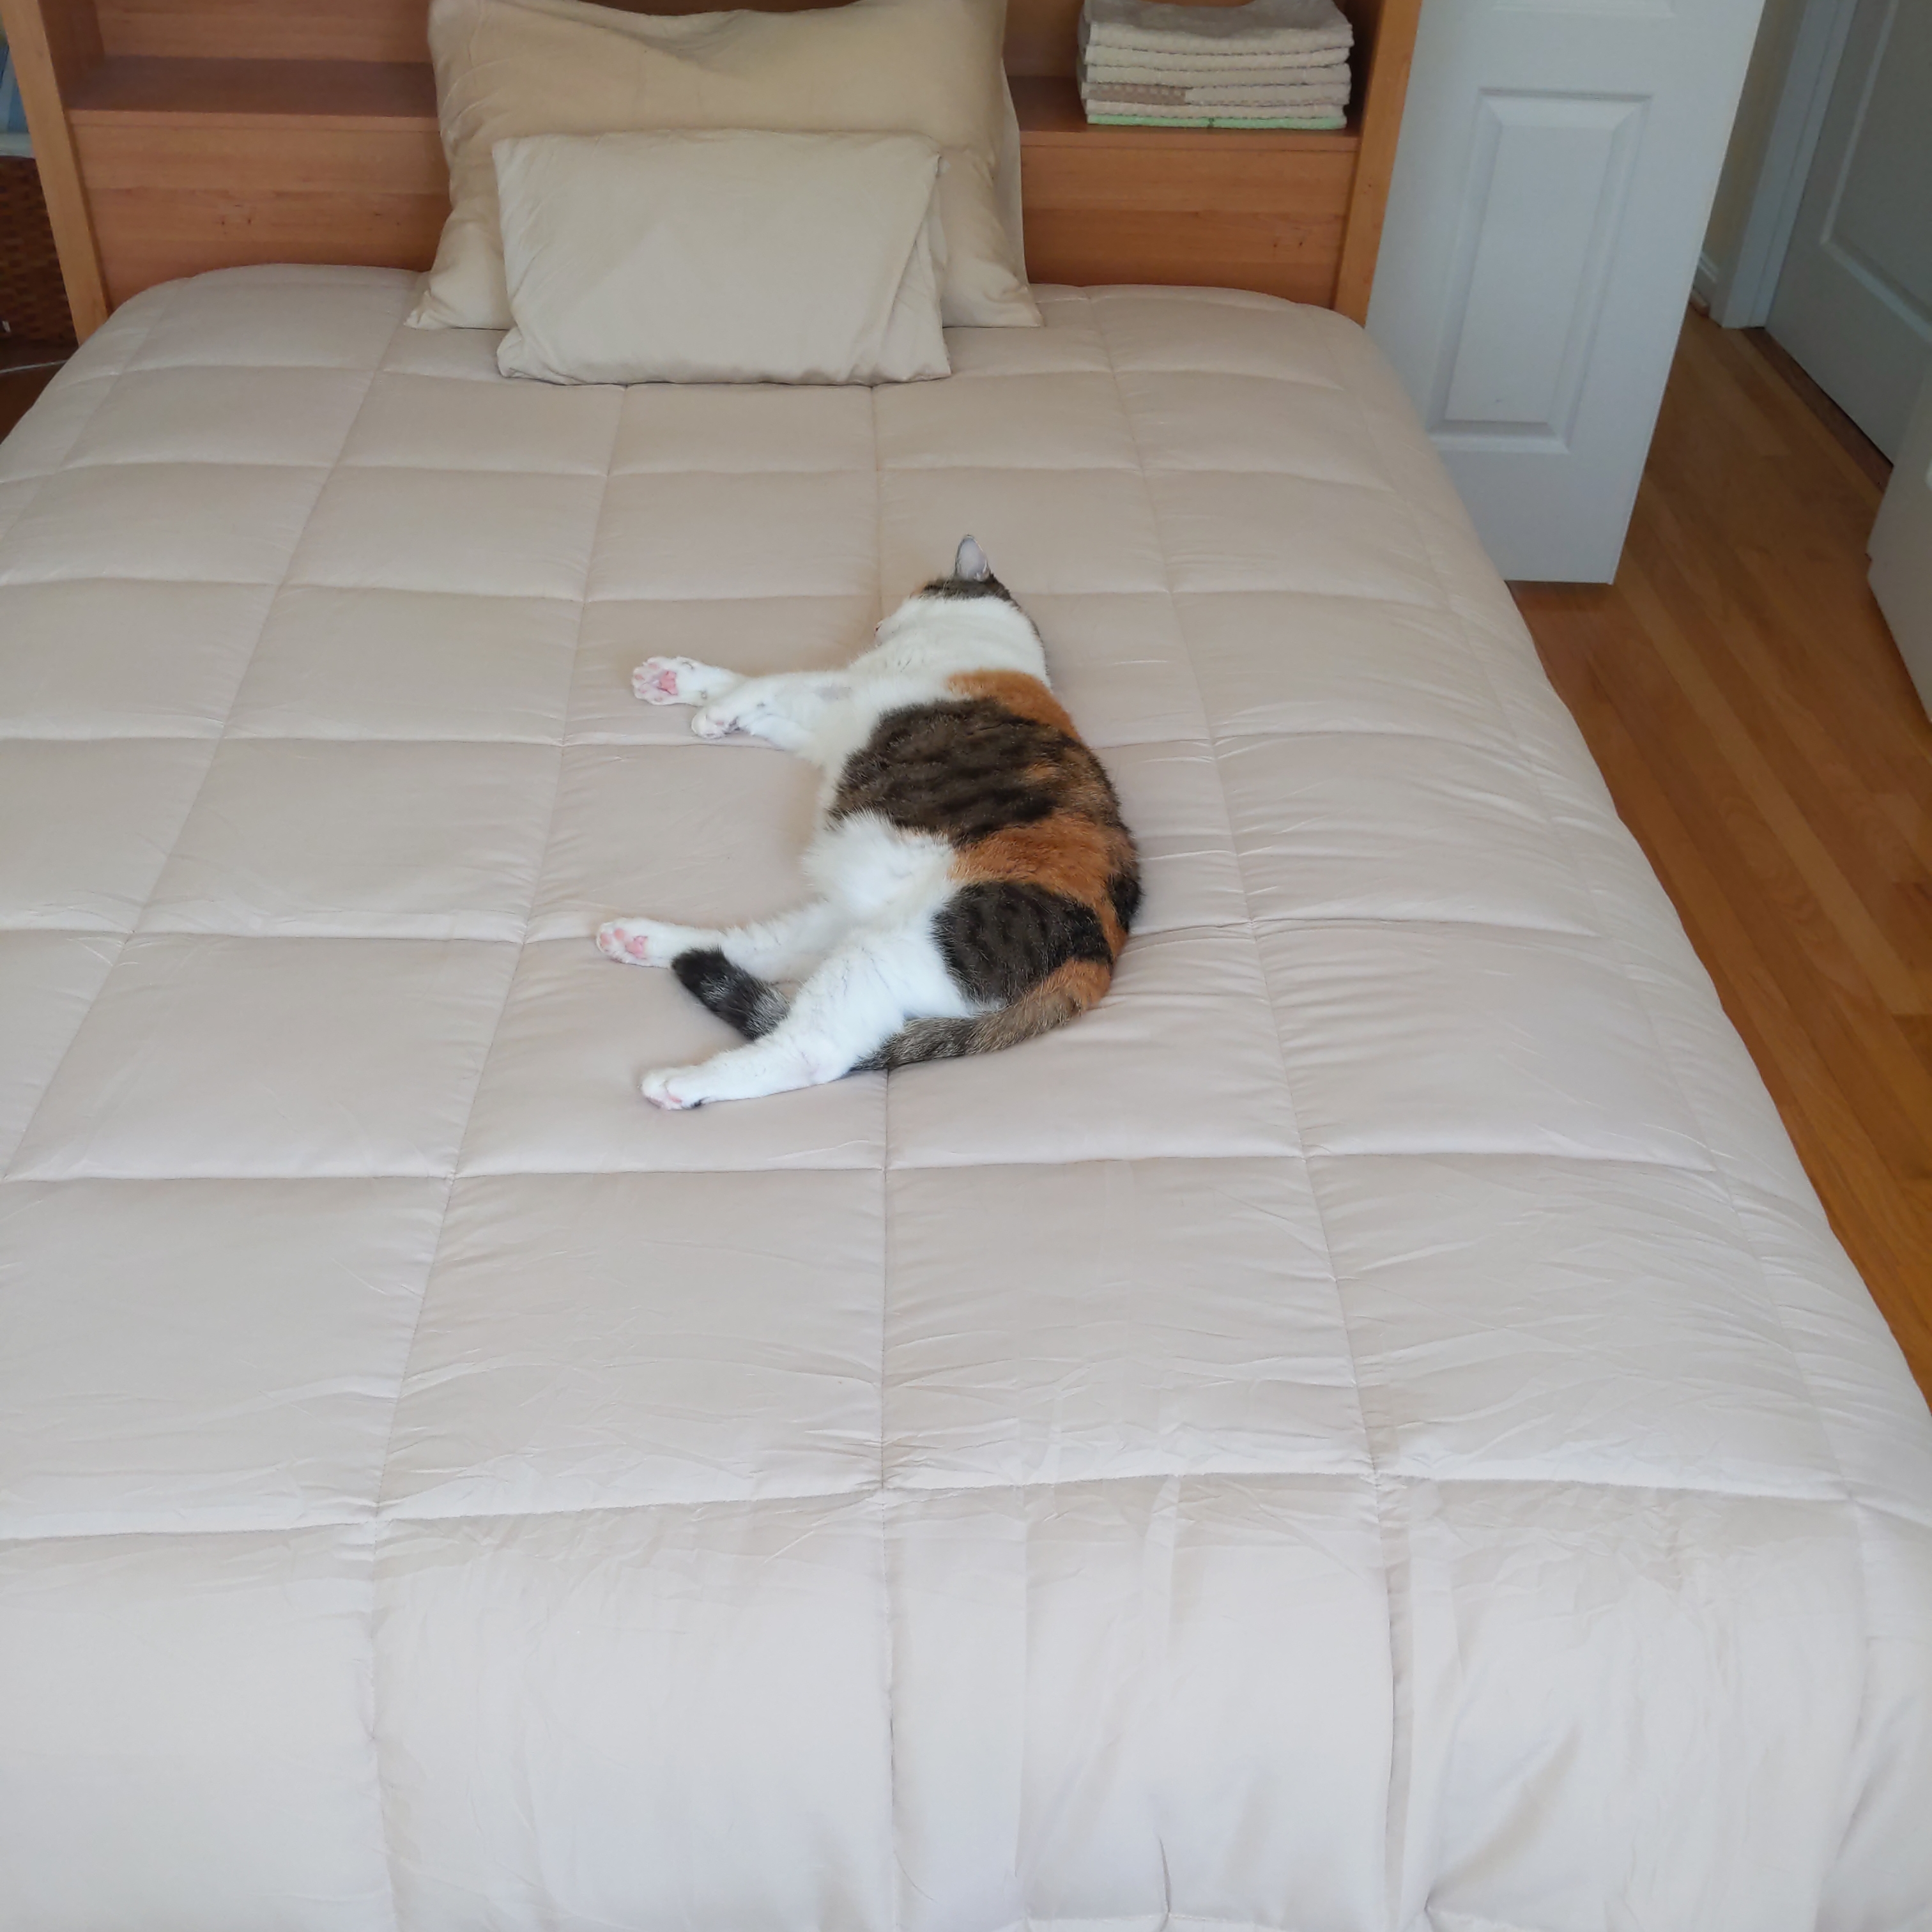Calico: (596, 533, 1146, 1113)
